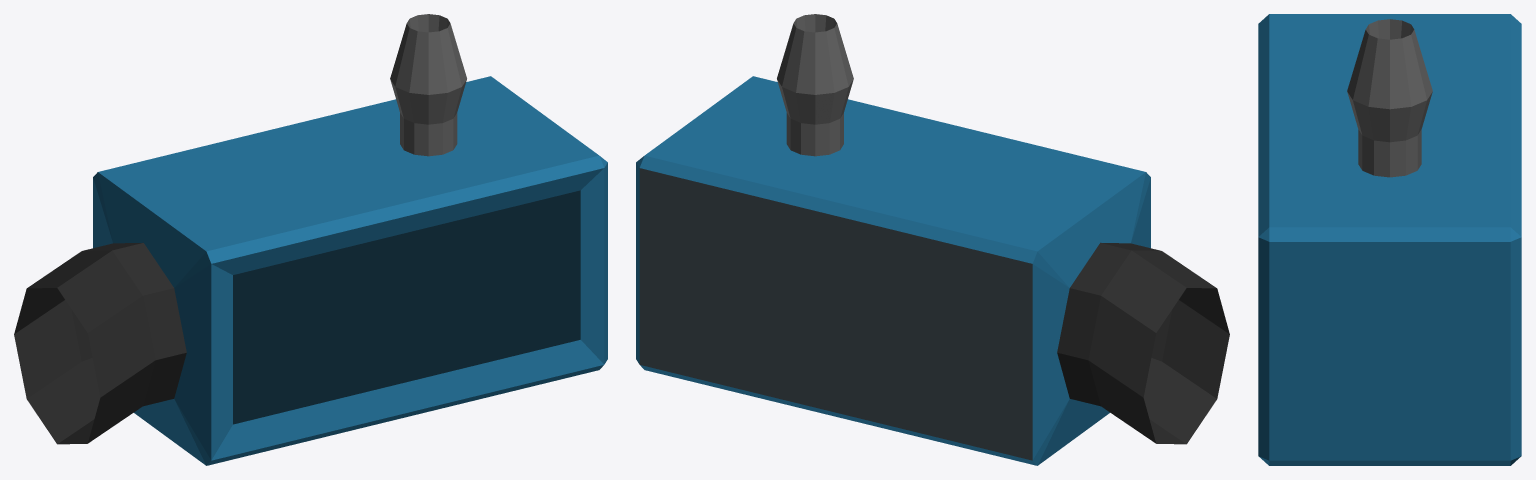
File: machine2.glb
3 views of the same model, side by side, from view 1: azimuth 30°, elevation 25°; view 2: azimuth 150°, elevation 25°; view 3: azimuth 270°, elevation 25° (orthographic). The views are drawn at different scales.
Parts seen in each view (by area): view 1: machine; view 2: machine; view 3: machine.
Part boxes in pixels (<box>): machine: <box>14,14,607,465</box>; machine: <box>636,14,1229,465</box>; machine: <box>1258,14,1521,465</box>.
Size of the model in its own units: 4.84 by 3.13 by 2.
Materials: 1 (1 with a texture image).
